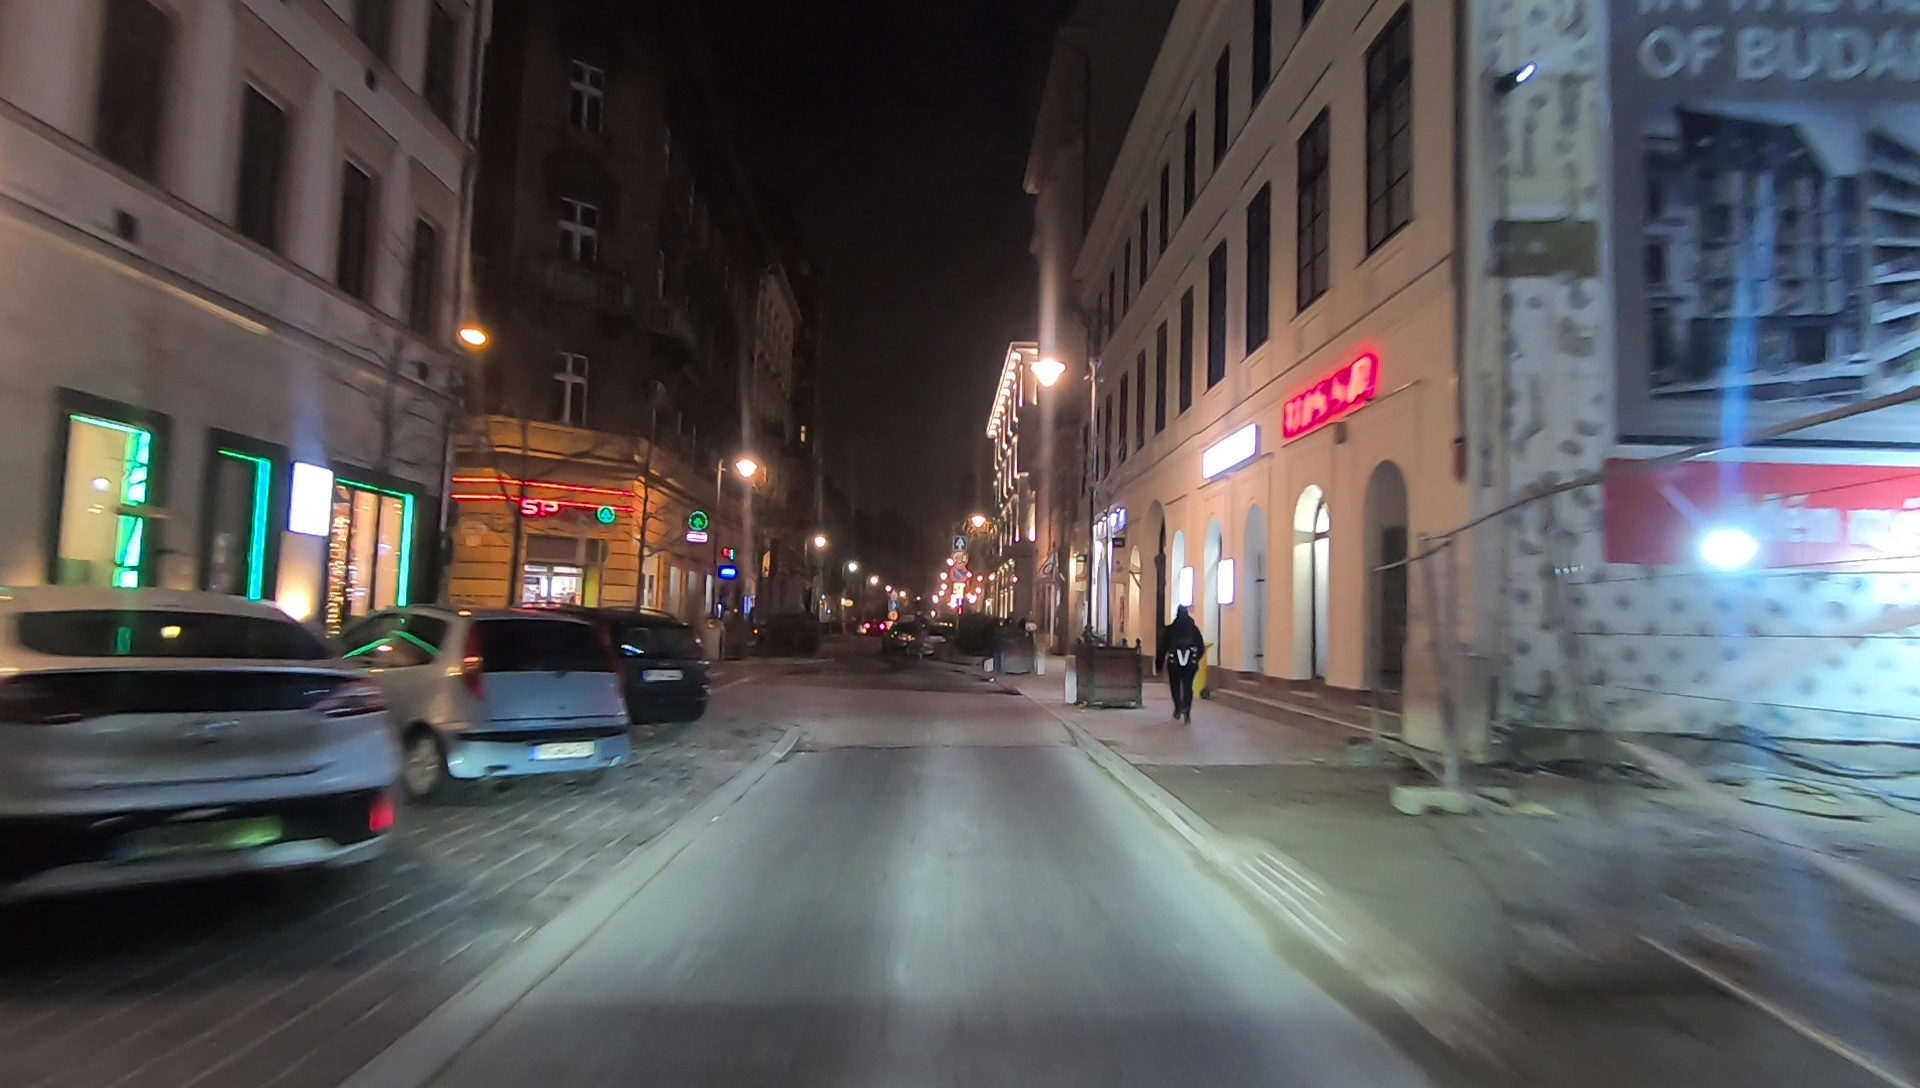person: (1160, 602, 1206, 732)
